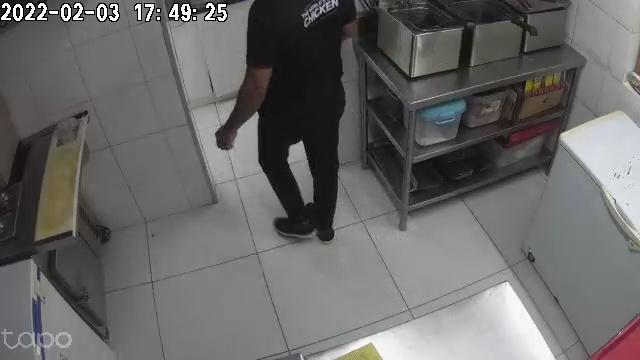no_gloves: (216, 114, 241, 149)
